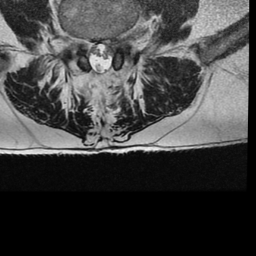CCS_normal: (96, 30, 105, 80)
LFS_normal: (115, 23, 127, 55)
LLS_normal: (106, 32, 115, 72)
RFS_normal: (77, 27, 89, 63)
RLS_normal: (88, 32, 96, 74)
